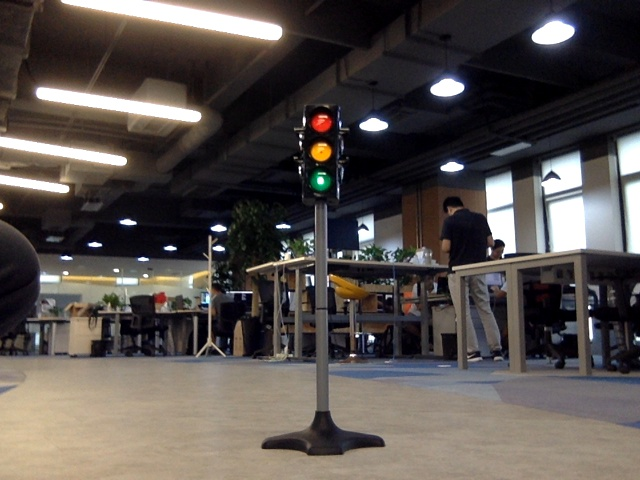green: (303, 111, 334, 196)
